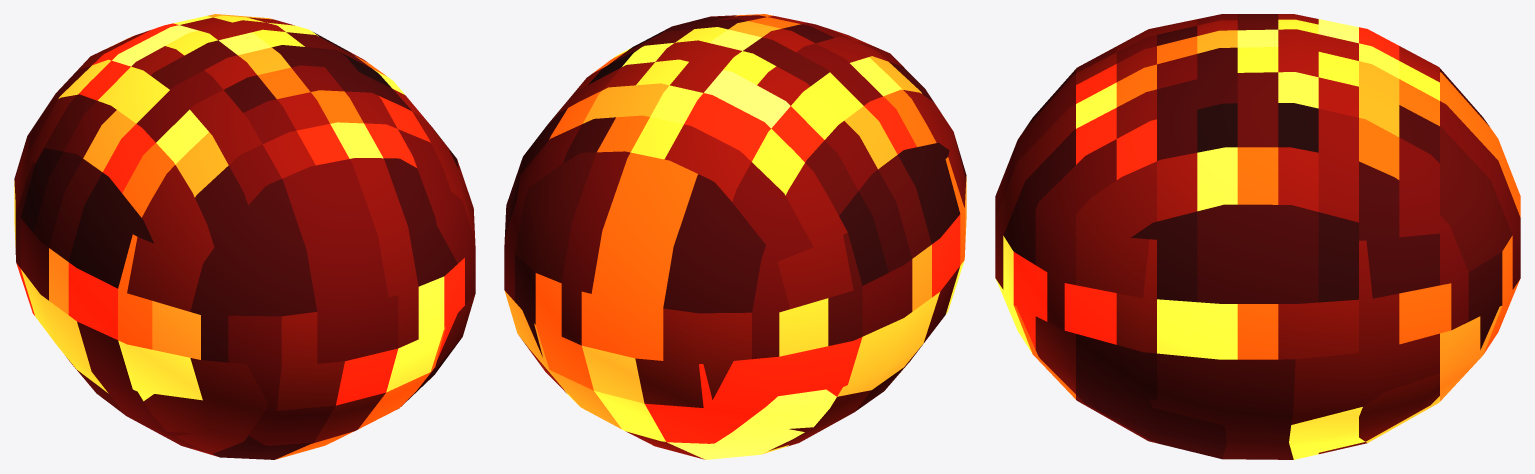
Rendered from newshl-115.glb.
3 renders of one model, left to right at view 1: azimuth 30°, elevation 25°; view 2: azimuth 150°, elevation 25°; view 3: azimuth 270°, elevation 25°, orthographic. The views are drawn at different scales.
Parts seen in each view (by area): view 1: newshl-115; view 2: newshl-115; view 3: newshl-115.
Part boxes in pixels (x1,y1,x2,y2): newshl-115: [14, 14, 475, 459]; newshl-115: [504, 14, 966, 459]; newshl-115: [995, 14, 1520, 459].
Bounding box in the file's own units: 0.9183 × 0.9223 × 1.08.
